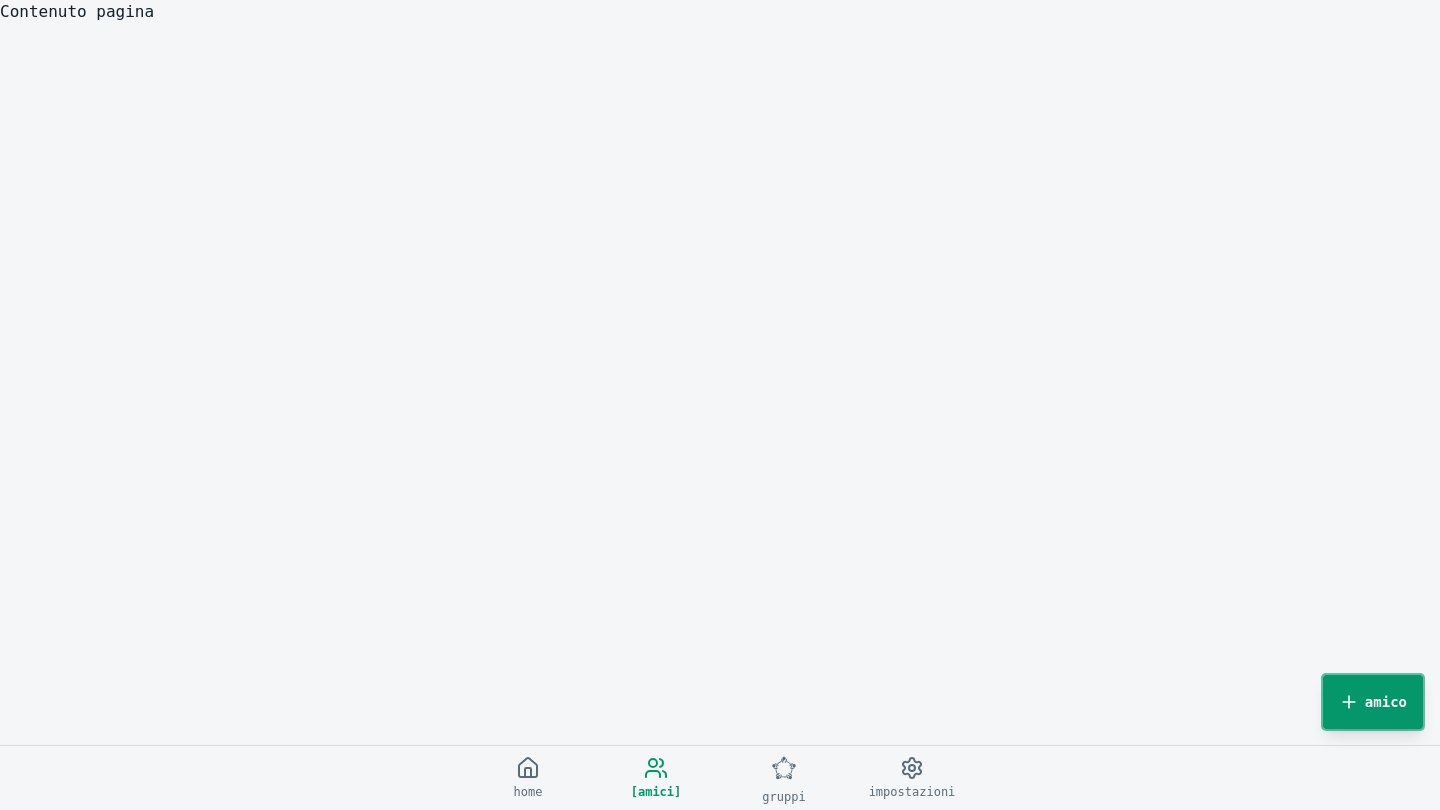
Test: AppLayout — FAB contestuale › su /friends apre la nuova richiesta di amicizia
Click the button with aria-label "Nuova richiesta di amicizia" at [1373, 702], box left=1322, top=674, right=1424, bottom=730
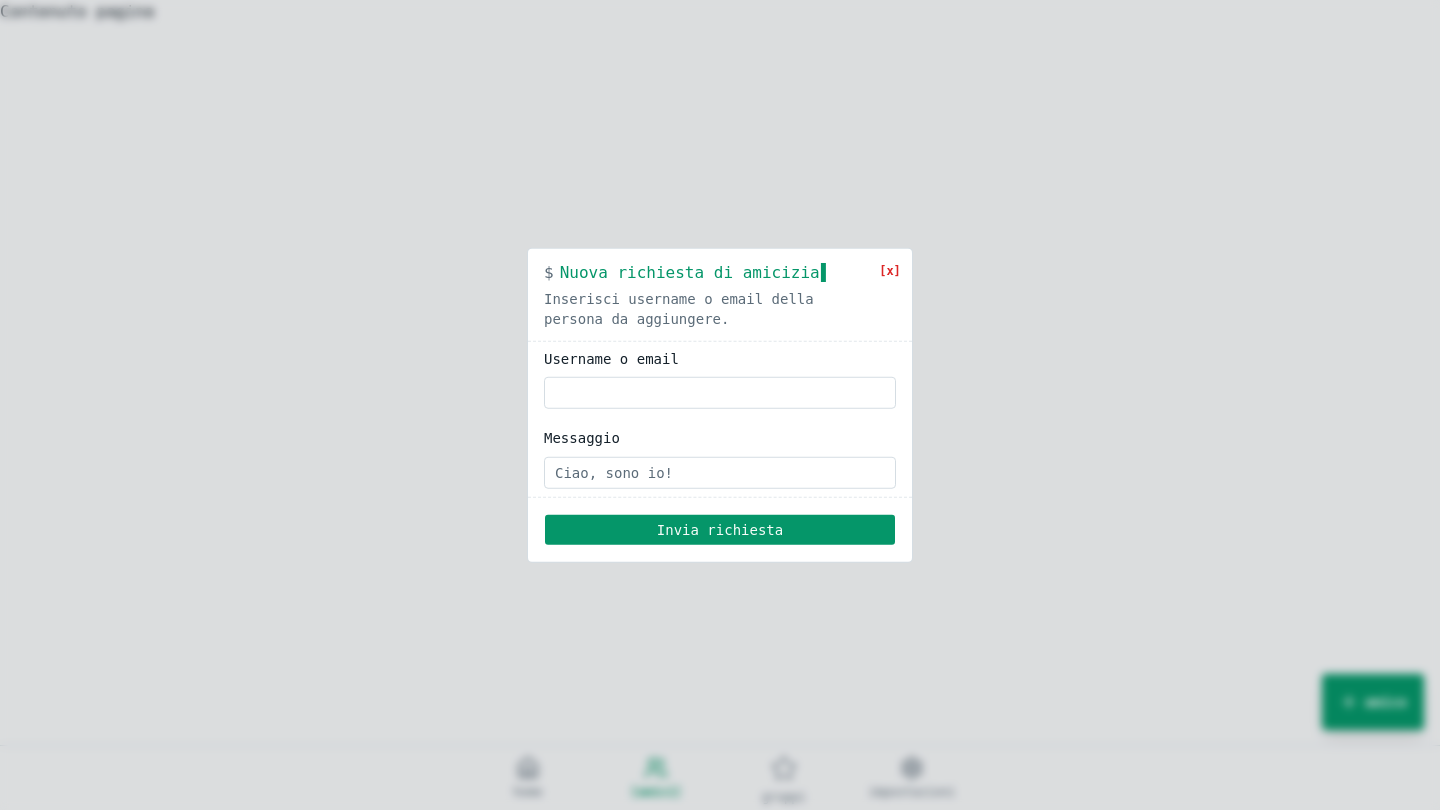
Result: the text "Inserisci username o email della persona da aggiungere." is shown at left=544, top=291, right=814, bottom=327
